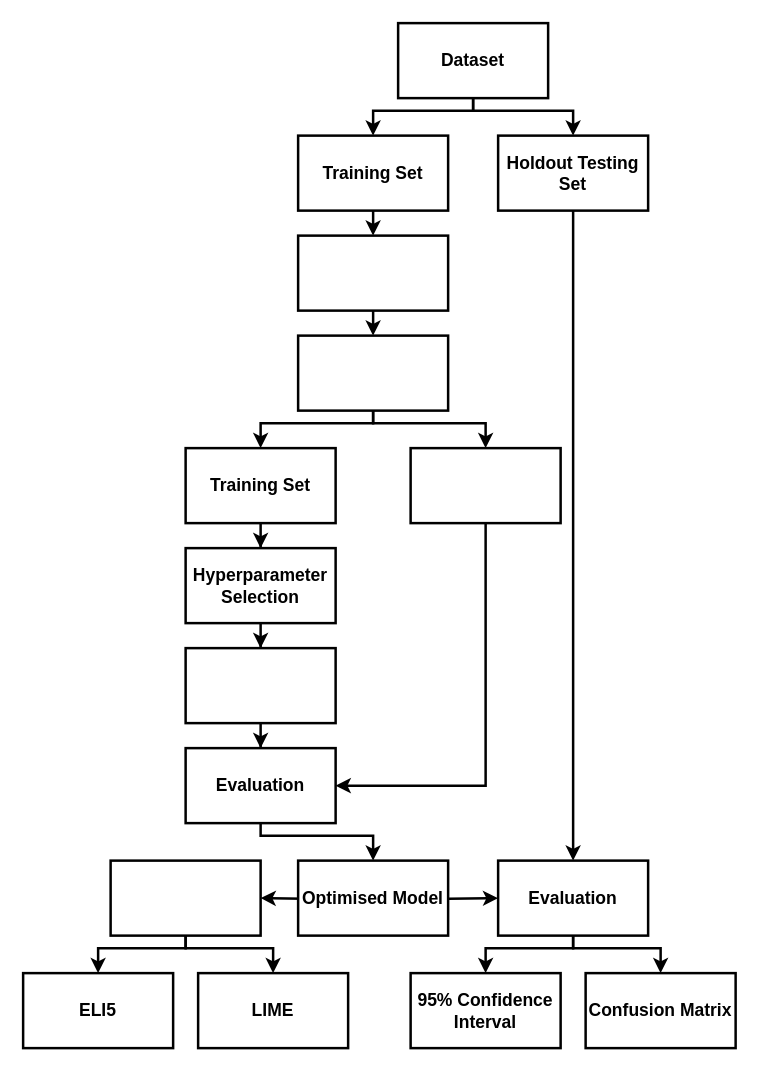
This 758x1070 diagram has some shape labels left out. The box of each missing label's shape, as (x1, y1, x2, y2) in pixels:
5-Fold Cross Validation: (272, 398, 472, 472)
BayesSearchCV: (296, 334, 449, 411)
Model Interpretability: (109, 859, 261, 936)
RFECV: (296, 234, 449, 311)
Trained Model: (184, 646, 336, 724)
Validation Set: (409, 446, 561, 524)
